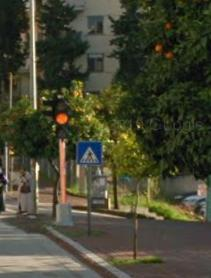yellowlight: (53, 87, 70, 127)
